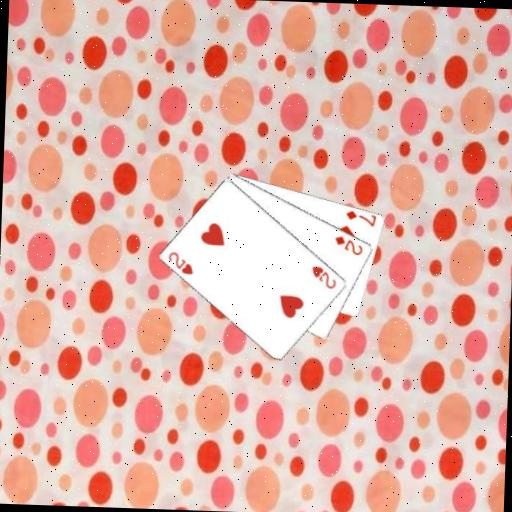2D: (331, 232, 364, 256)
2H: (308, 263, 339, 291), (164, 248, 195, 276)
7D: (342, 207, 378, 228)
